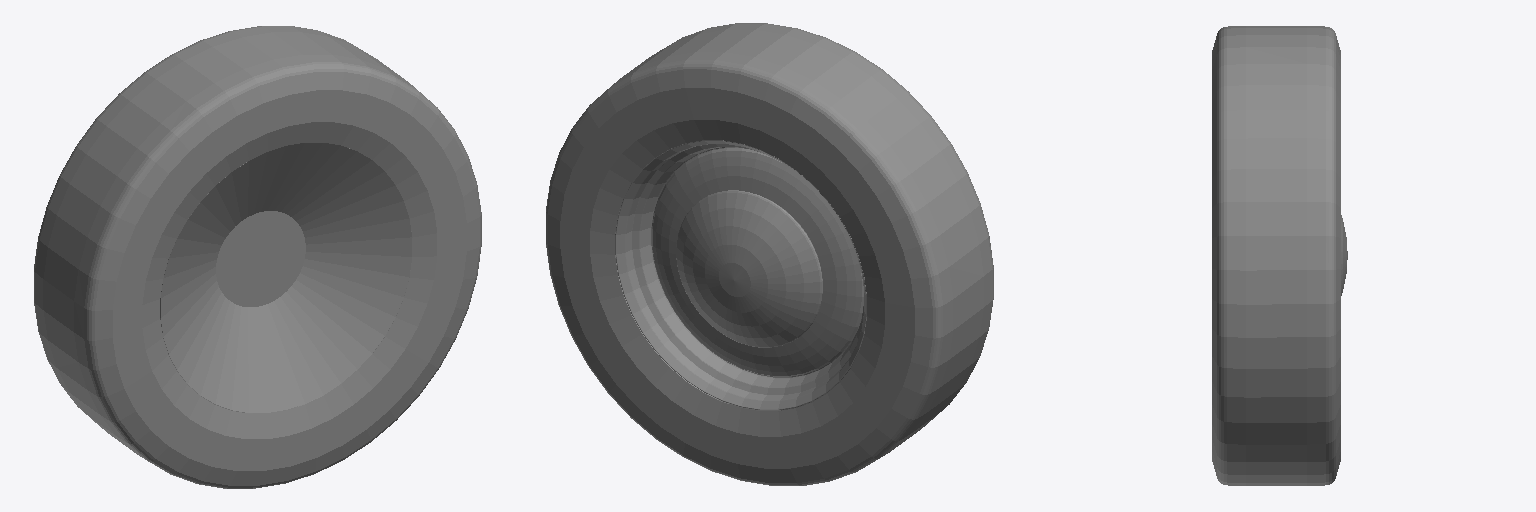
Rendered from VLlDDe.obj.
3 renders of one model, left to right at view 1: azimuth 30°, elevation 25°; view 2: azimuth 150°, elevation 25°; view 3: azimuth 270°, elevation 25°, orthographic.
Visible parts, largest first — view 1: LlantaDeDe; view 2: LlantaDeDe; view 3: LlantaDeDe.
Boxes of the visible parts, x1,y1,x2,y2 form: LlantaDeDe: [34, 26, 481, 488]; LlantaDeDe: [546, 23, 993, 485]; LlantaDeDe: [1212, 26, 1347, 485].
Bounding box in the file's own units: 7.28 × 7.3 × 2.15.